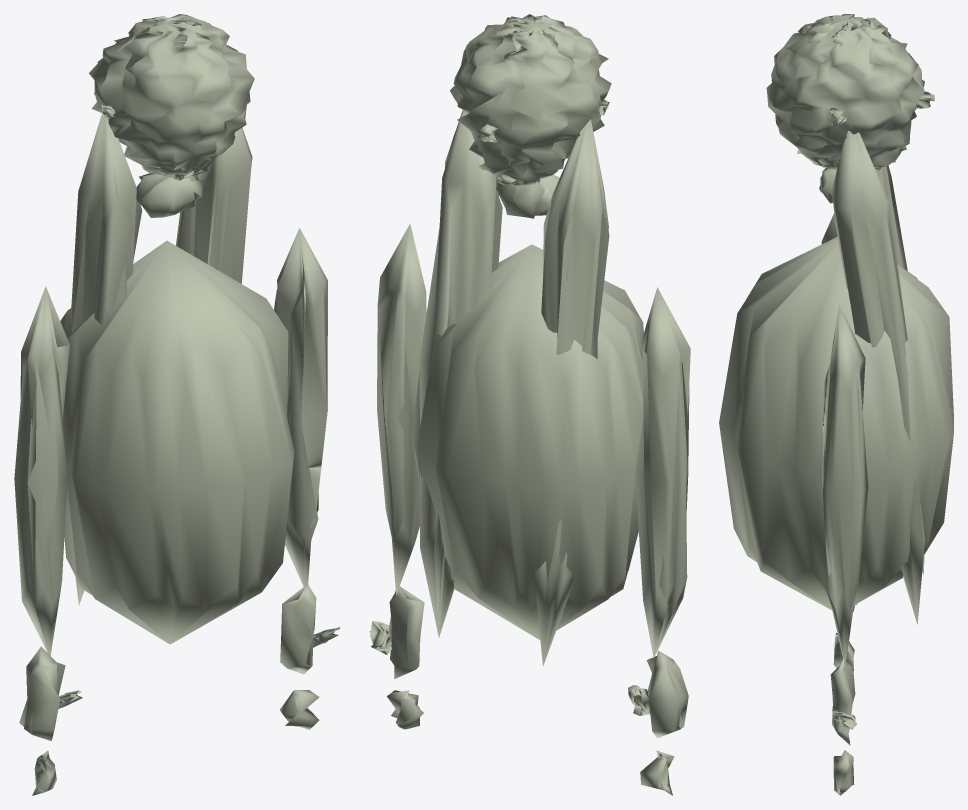
File: zombie_screamer.glb
3 renders of one model, left to right at view 1: azimuth 30°, elevation 25°; view 2: azimuth 150°, elevation 25°; view 3: azimuth 270°, elevation 25°, orthographic. The views are drawn at different scales.
Parts seen in each view (by area): view 1: zombie_screamer; view 2: zombie_screamer; view 3: zombie_screamer.
Part boxes in pixels (bbox=[...]): zombie_screamer: bbox=[14, 14, 340, 795]; zombie_screamer: bbox=[369, 14, 690, 795]; zombie_screamer: bbox=[719, 14, 953, 795].
Size of the model in its own units: 0.4773 by 1.05 by 0.3152.
